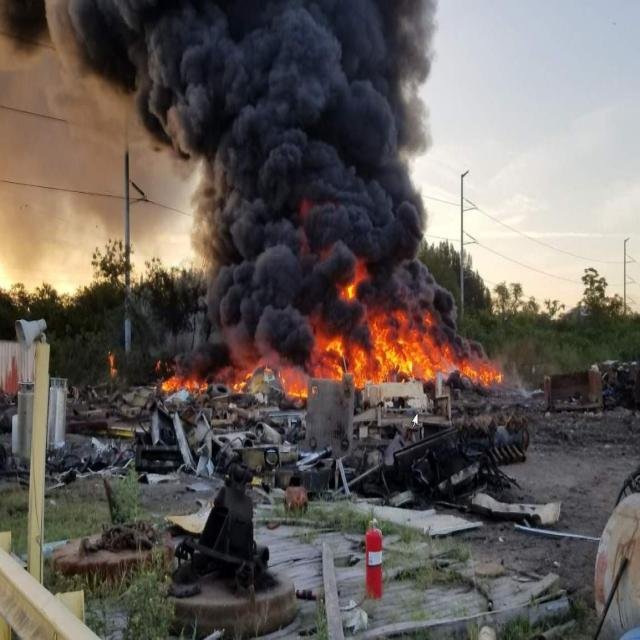Fire: (140, 300, 515, 408), (327, 254, 373, 310), (108, 356, 119, 377)
